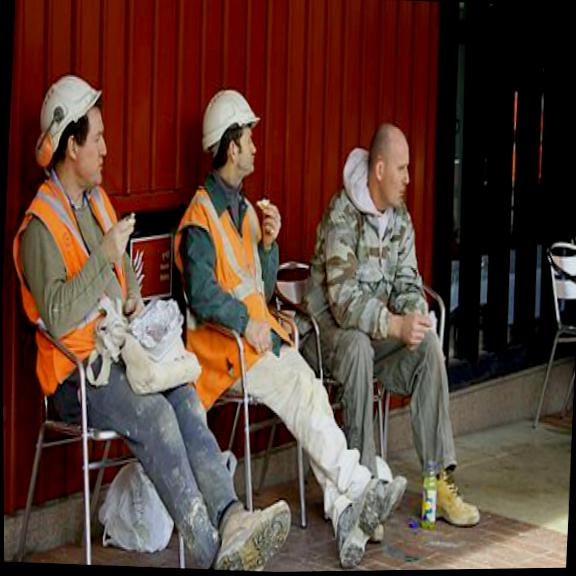safety_vest: (158, 179, 304, 415), (1, 163, 139, 401)
